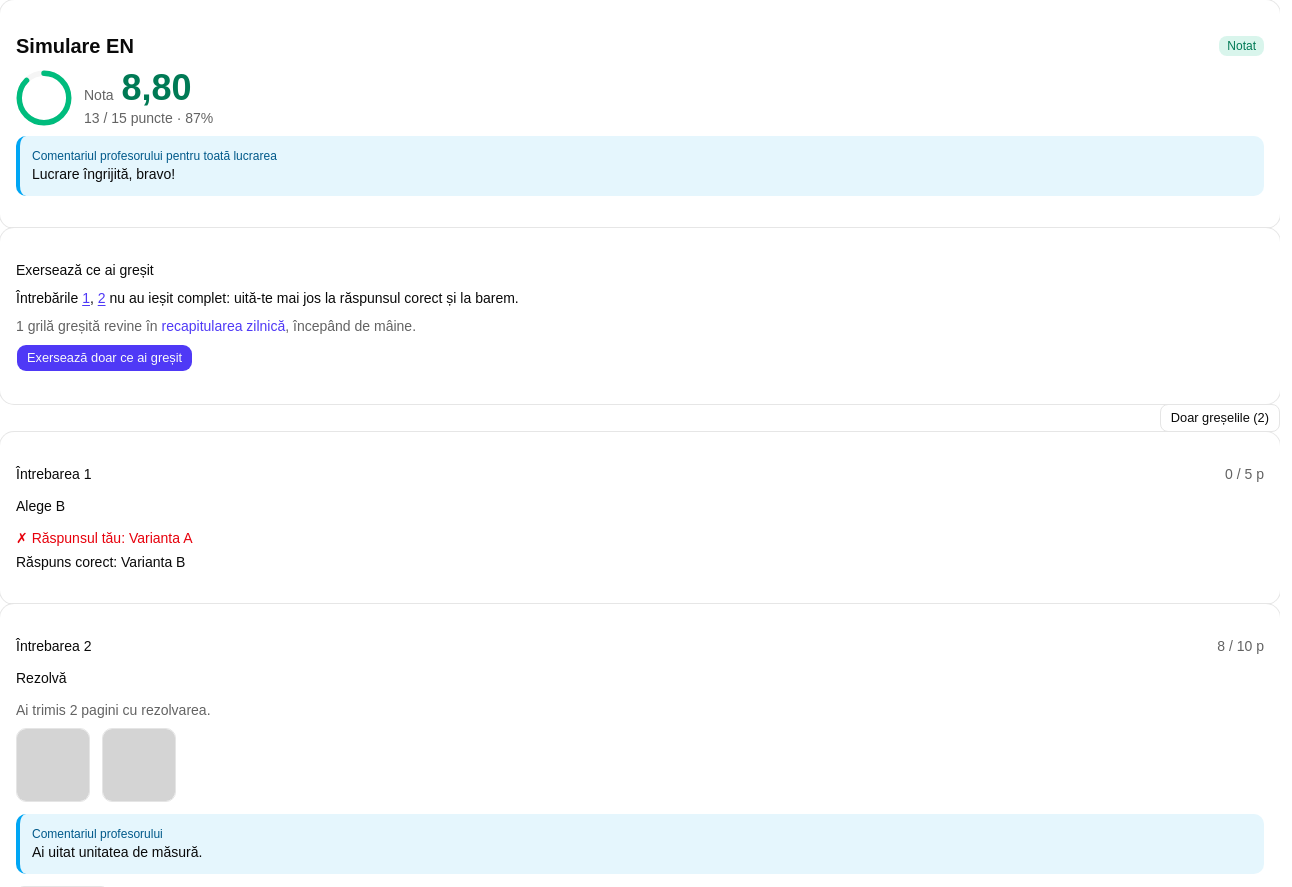
Test: AttemptResultView › shows only the questions not fully right on "Doar greșelile", and all again on a second press
Click the button "Doar greșelile (2)" at (1220, 418), box x1=1160 y1=404 x2=1280 y2=432
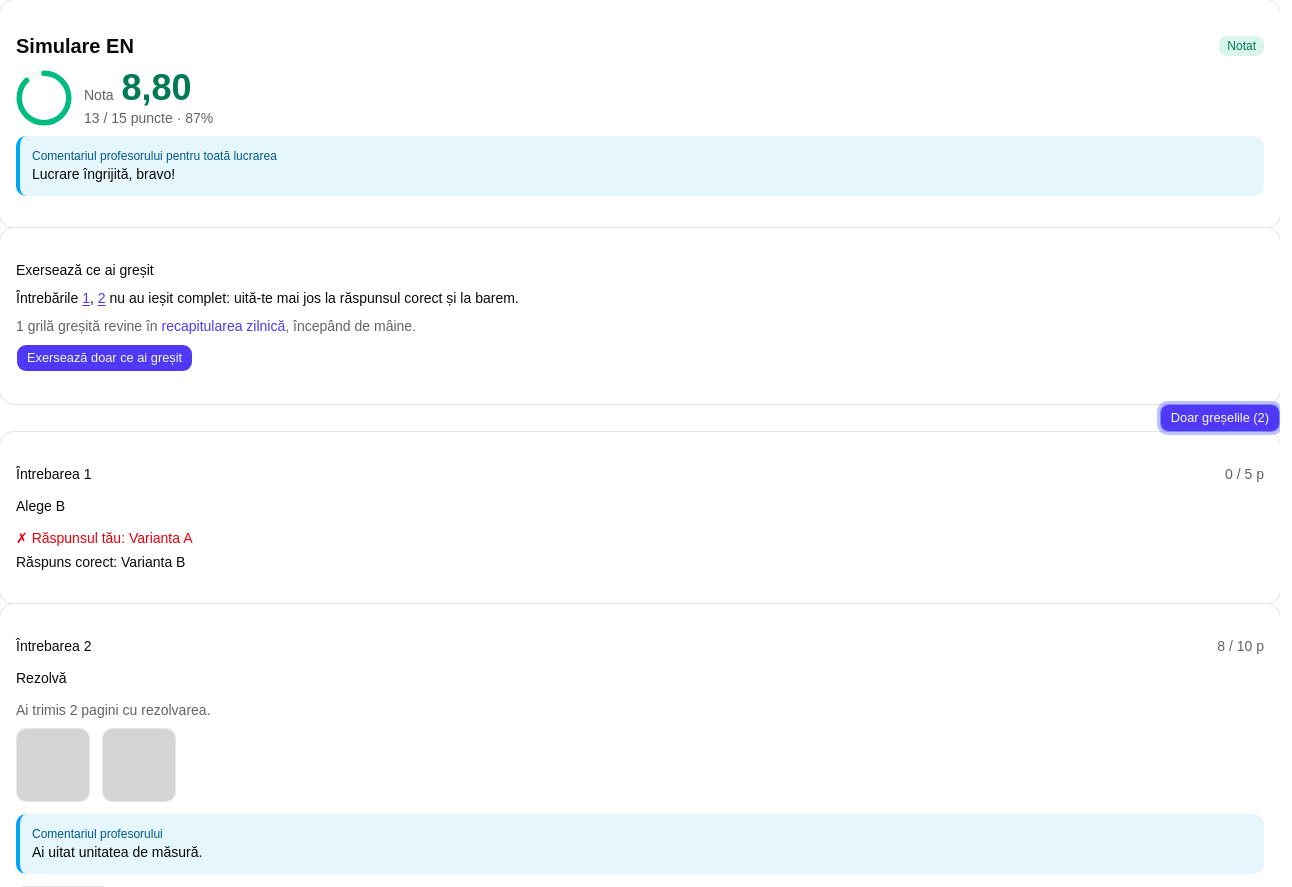
Expected: the text "Alege B" is shown, x1=16 y1=498 x2=65 y2=514
Expected: the button "Doar greșelile (2)" is pressed
Click the button "Doar greșelile (2)" at (1220, 418), box x1=1160 y1=404 x2=1280 y2=432
(page scrolled)
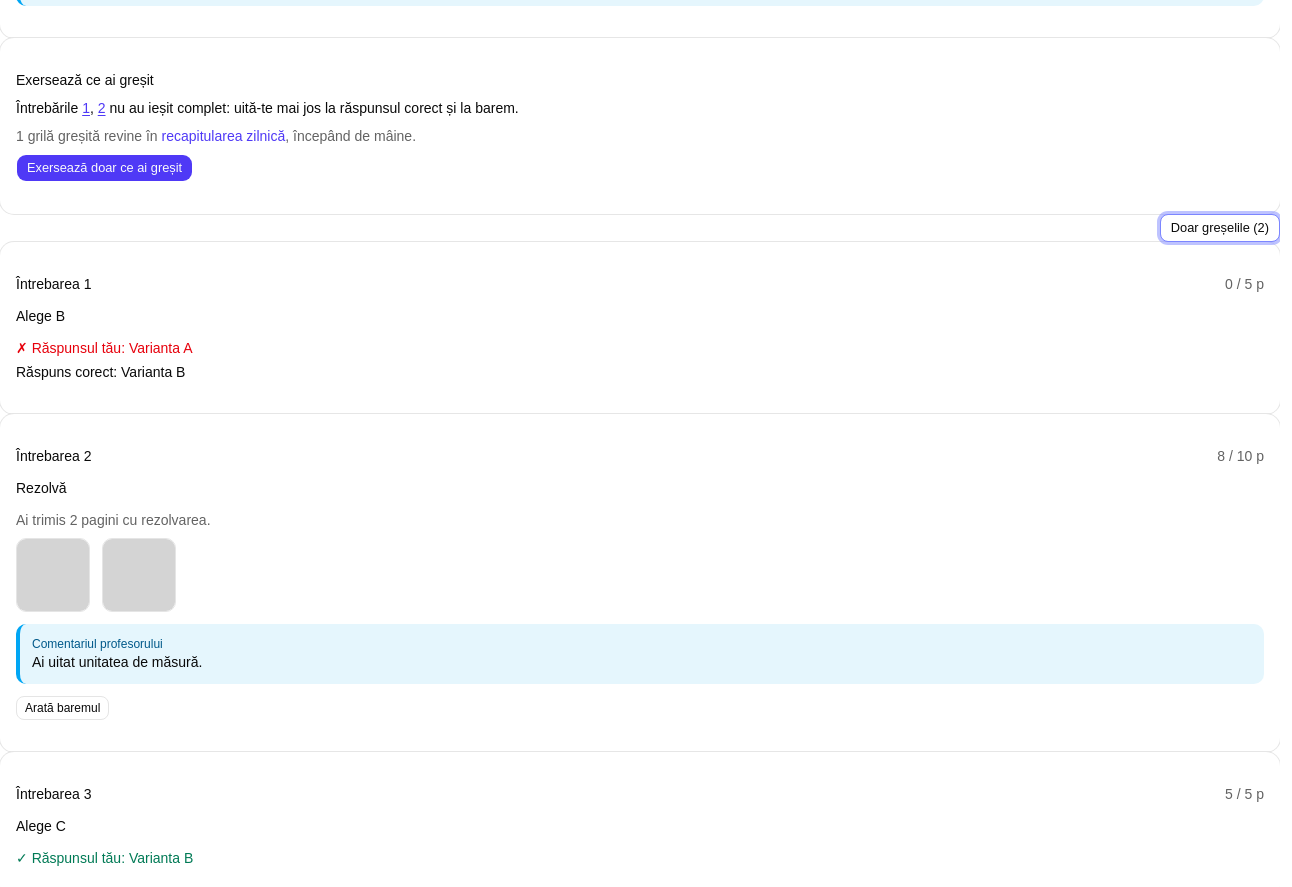
Expected: the text "Alege C" is shown, x1=16 y1=818 x2=66 y2=834
